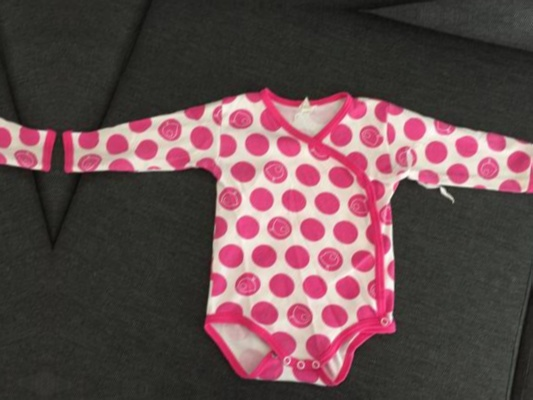Body: (56, 57, 533, 396), (0, 28, 54, 368), (0, 372, 34, 400)
